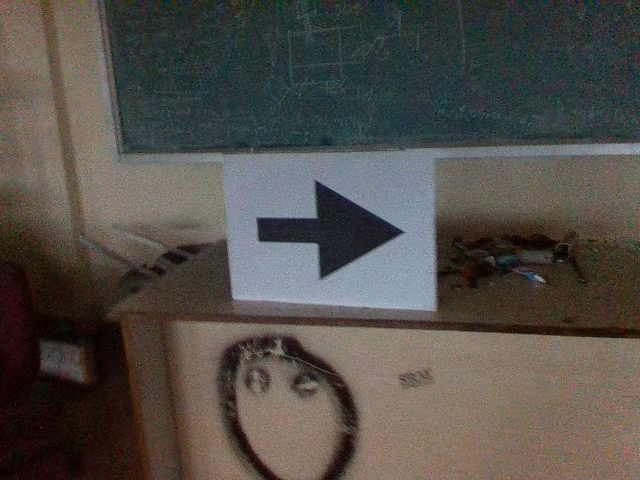Right: (246, 171, 413, 284)
